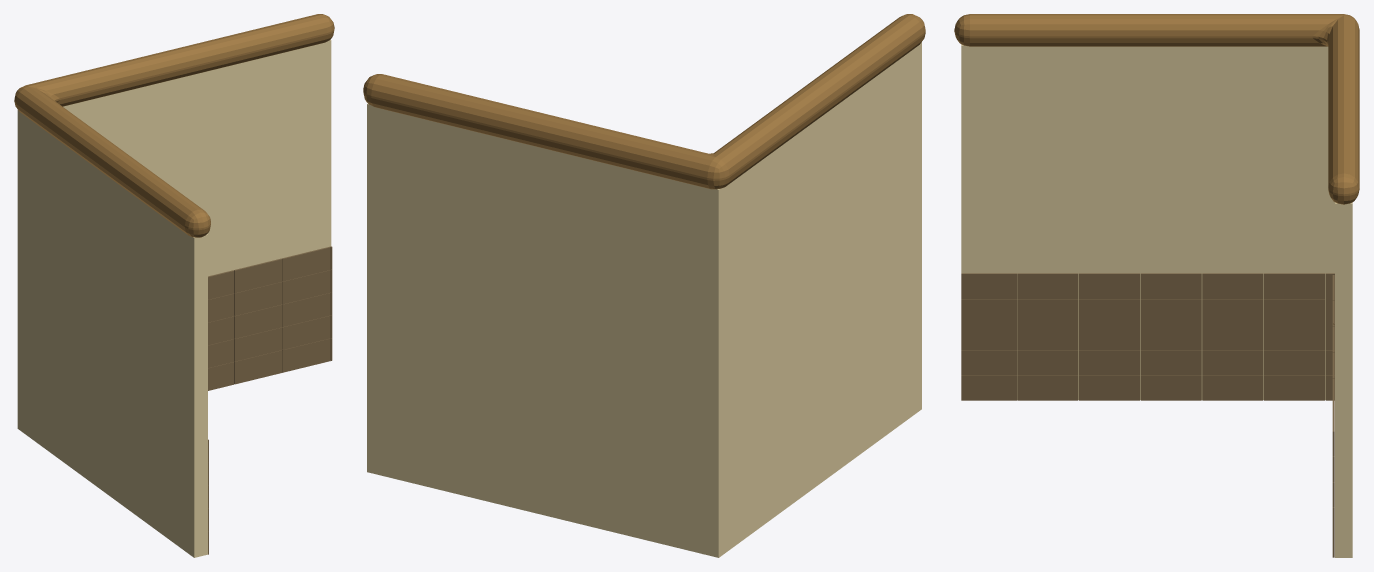
Rendered from CornerWall01.fbx.
3 views of the same model, side by side, from view 1: azimuth 30°, elevation 25°; view 2: azimuth 150°, elevation 25°; view 3: azimuth 270°, elevation 25° (orthographic). The views are drawn at different scales.
Parts seen in each view (by area): view 1: CornerWall01; view 2: CornerWall01; view 3: CornerWall01.
Part boxes in pixels (left/top/right/bottom): CornerWall01: left=14, top=14, right=334, bottom=557; CornerWall01: left=363, top=14, right=925, bottom=557; CornerWall01: left=954, top=14, right=1359, bottom=557.
Size of the model in its own units: 207 by 215 by 207.
